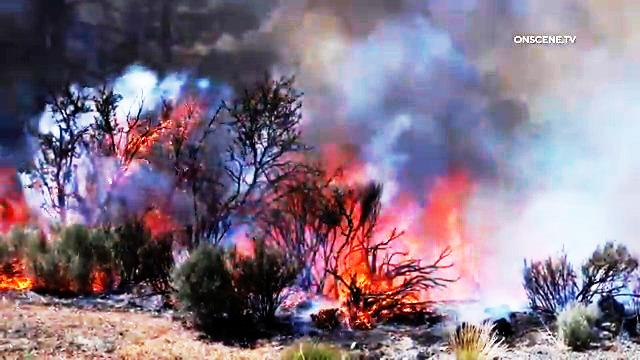fire: (264, 154, 472, 306), (76, 116, 181, 187), (0, 258, 43, 291)
smoke: (0, 0, 454, 82), (316, 39, 515, 137)
